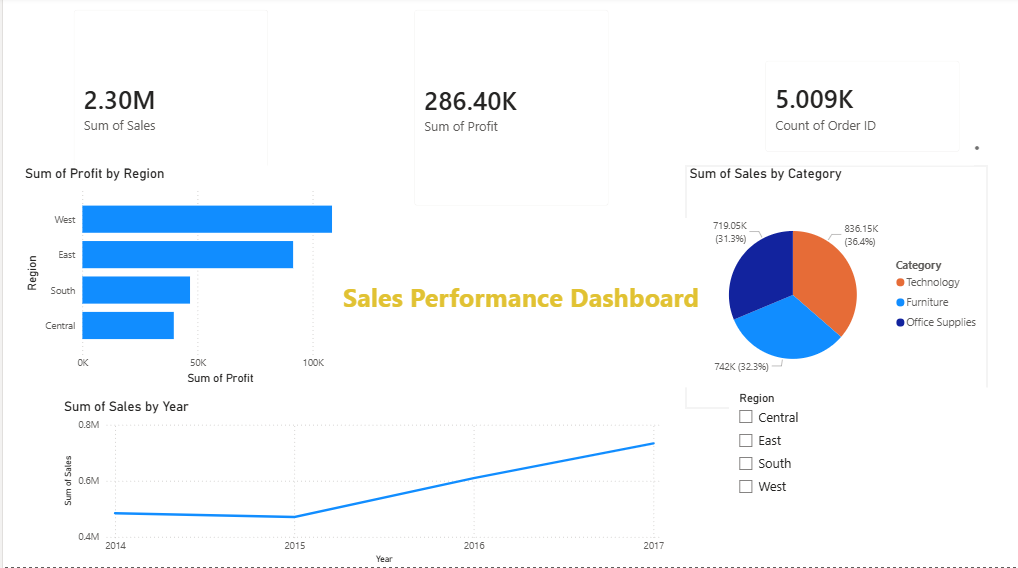

What the dashboard file says about the page in this screenshot:
{"tool":"powerbi","page":{"name":"Page 1","canvas":[1280,720],"ordinal":0},"visuals":[{"type":"cardVisual","fields":{"Data":["Sum(superstore_final.Sales)"]},"box":[71.8,0,279.7,279.7],"z":0},{"type":"cardVisual","fields":{"Data":["Sum(superstore_final.Profit)"]},"box":[500.8,0,279.7,281.6],"z":1000},{"type":"clusteredBarChart","fields":{"Category":["superstore_final.Region"],"Y":["Sum(superstore_final.Profit)"]},"box":[22.7,213.5,444.1,279.7],"z":2000},{"type":"lineChart","fields":{"Category":["superstore_final.Order Date.Variation.Date Hierarchy.Year","superstore_final.Order Date.Variation.Date Hierarchy.Quarter","superstore_final.Order Date.Variation.Date Hierarchy.Month","superstore_final.Order Date.Variation.Date Hierarchy.Day"],"Y":["Sum(superstore_final.Sales)"]},"box":[71.8,506.5,765.4,213.5],"z":3000},{"type":"pieChart","fields":{"Category":["superstore_final.Category"],"Y":["Sum(superstore_final.Sales)"]},"box":[859.8,213.5,379.8,306.1],"z":4000},{"type":"slicer","fields":{"Values":["superstore_final.Region"]},"box":[914.7,493.2,364.7,226.8],"z":5000},{"type":"cardVisual","fields":{"Data":["Count(superstore_final.Order ID)"]},"box":[943,64.3,279.7,149.3],"z":6000},{"type":"textbox","box":[423.3,279.7,470.6,213.5],"z":7000}]}

Visuals, with their boxes in screenshot pixels (x1, y1, x2, y2), scaled from the page's 1280x720 canvas onto the 1018x568 screenshot:
cardVisual - Sum(superstore_final.Sales): x1=57, y1=0, x2=280, y2=221
cardVisual - Sum(superstore_final.Profit): x1=398, y1=0, x2=621, y2=222
clusteredBarChart - superstore_final.Region x Sum(superstore_final.Profit): x1=18, y1=168, x2=371, y2=389
lineChart - superstore_final.Order Date.Variation.Date Hierarchy.Year x superstore_final.Order Date.Variation.Date Hierarchy.Quarter: x1=57, y1=400, x2=666, y2=567
pieChart - superstore_final.Category x Sum(superstore_final.Sales): x1=684, y1=168, x2=986, y2=410
slicer - superstore_final.Region: x1=727, y1=389, x2=1017, y2=567
cardVisual - Count(superstore_final.Order ID): x1=750, y1=51, x2=972, y2=169
textbox: x1=337, y1=221, x2=711, y2=389
